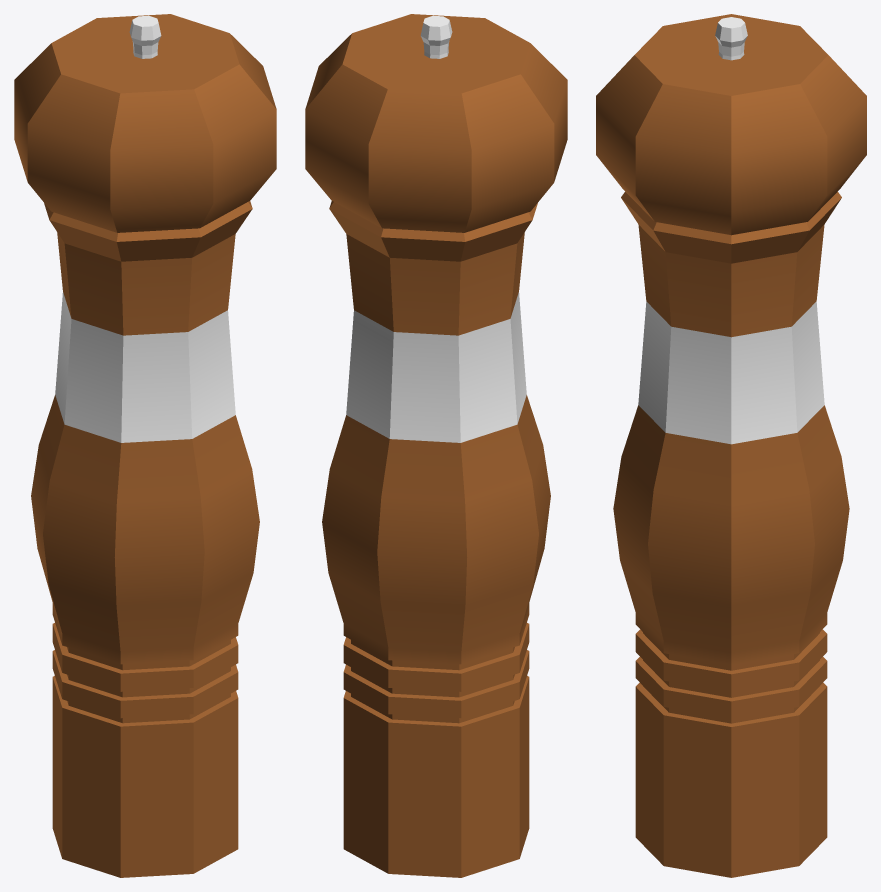
The model's file is Pimentero.fbx.
The picture shows the model from 3 angles, left to right: view 1: azimuth 30°, elevation 25°; view 2: azimuth 150°, elevation 25°; view 3: azimuth 270°, elevation 25°; orthographic projection.
Visible parts, largest first — view 1: Pimienta Blanca; view 2: Pimienta Blanca; view 3: Pimienta Blanca.
Part boxes in pixels (bbox=[...]): Pimienta Blanca: bbox=[14, 14, 276, 877]; Pimienta Blanca: bbox=[305, 14, 567, 877]; Pimienta Blanca: bbox=[596, 14, 866, 877].
Bounding box in the file's own units: 5.59 × 18.55 × 5.59.
